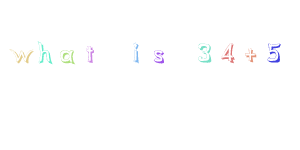+: (244, 47, 257, 63)
3: (197, 41, 211, 63)
4: (221, 42, 235, 63)
5: (266, 41, 282, 64)
a: (59, 49, 75, 63)
h: (38, 41, 52, 63)
i: (131, 42, 141, 63)
s: (153, 48, 165, 64)
t: (85, 44, 95, 63)
w: (9, 48, 33, 63)
